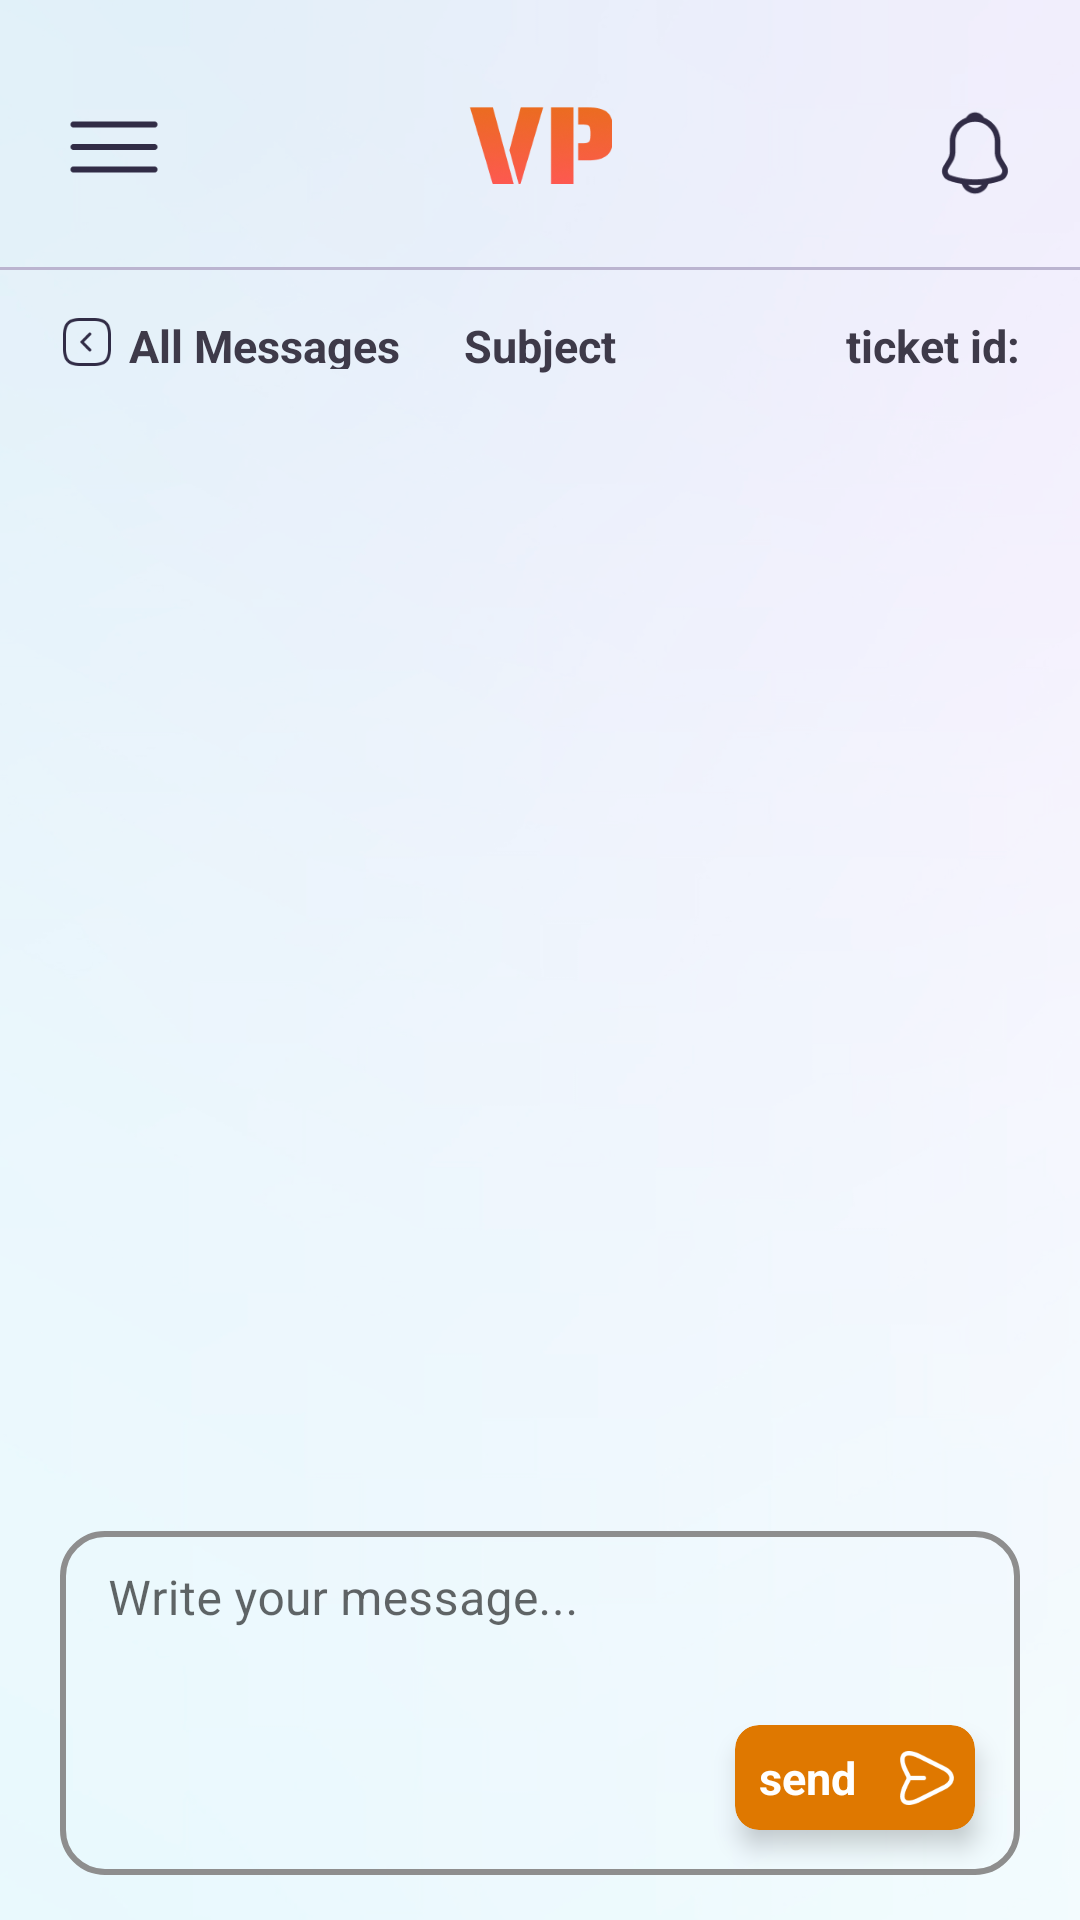

Icons on this 1080 × 1920 Android screen, each with the point to tap as point (x, y):
arrowleft: point (87, 342)
menu: point (114, 147)
notification: point (975, 153)
